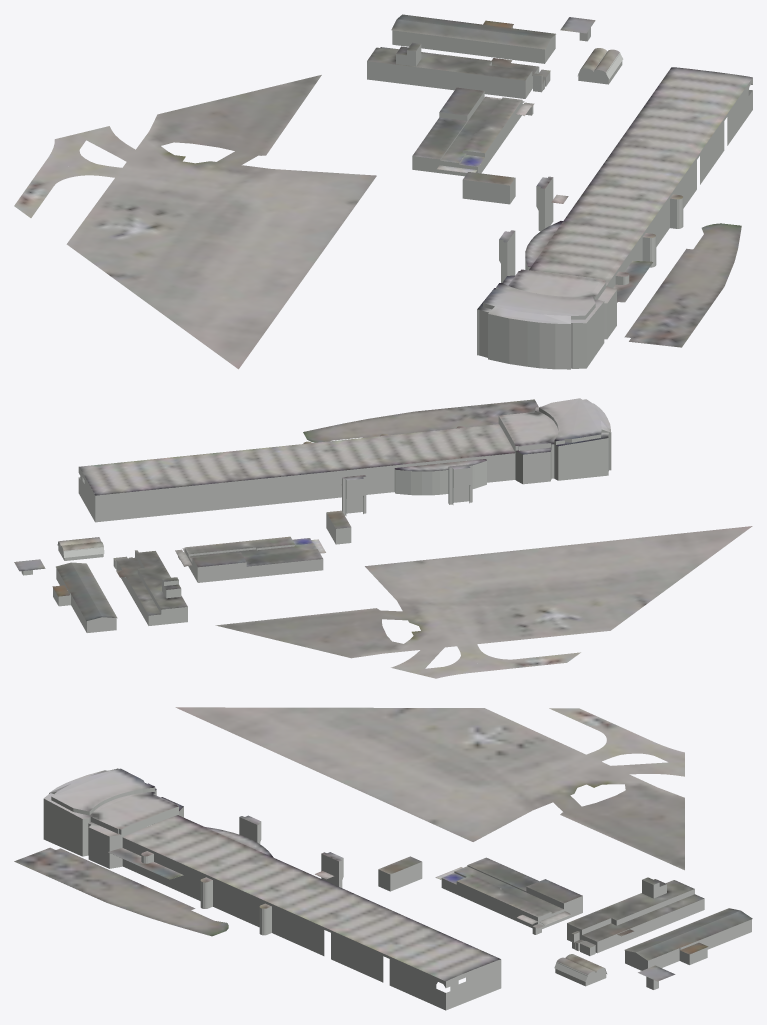
Rendered from LSGG_0_-1.glb.
3 views of the same model, one above another, from view 1: azimuth 30°, elevation 25°; view 2: azimuth 150°, elevation 25°; view 3: azimuth 270°, elevation 25° (orthographic). The views are drawn at different scales.
Parts seen in each view (by area): view 1: pavement_LSGG_pavement_4995_2242, building_21402e1a0712a7a2, building_f36d4e0afd093fa1, building_52facce85fec65dd, building_69130aa4924f32c3, building_08fd097477be71ec, building_127d4524f891cd3c, building_3647754495e3d42e, building_a9cdc9163424f115, building_f4d8ebf337e6cc00, building_54d526beeac6e02a, building_9764d06eb77990f2 (+1 smaller); view 2: pavement_LSGG_pavement_4995_2242, building_21402e1a0712a7a2, building_69130aa4924f32c3, building_f36d4e0afd093fa1, building_52facce85fec65dd, building_08fd097477be71ec, building_a9cdc9163424f115, building_f4d8ebf337e6cc00, building_3647754495e3d42e, building_127d4524f891cd3c, building_9764d06eb77990f2, building_54d526beeac6e02a; view 3: pavement_LSGG_pavement_4995_2242, building_21402e1a0712a7a2, building_69130aa4924f32c3, building_f36d4e0afd093fa1, building_52facce85fec65dd, building_08fd097477be71ec, building_f4d8ebf337e6cc00, building_a9cdc9163424f115, building_127d4524f891cd3c, building_3647754495e3d42e, building_54d526beeac6e02a, building_9764d06eb77990f2 (+1 smaller).
Part boxes in pixels (x1=…): pavement_LSGG_pavement_4995_2242: x1=14, y1=75, x2=376, y2=369; building_21402e1a0712a7a2: x1=499, y1=67, x2=752, y2=285; building_f36d4e0afd093fa1: x1=477, y1=223, x2=741, y2=347; building_52facce85fec65dd: x1=477, y1=275, x2=712, y2=369; building_69130aa4924f32c3: x1=499, y1=71, x2=752, y2=302; building_08fd097477be71ec: x1=412, y1=87, x2=521, y2=185; building_127d4524f891cd3c: x1=367, y1=44, x2=539, y2=115; building_3647754495e3d42e: x1=391, y1=14, x2=555, y2=49; building_a9cdc9163424f115: x1=412, y1=91, x2=522, y2=204; building_f4d8ebf337e6cc00: x1=367, y1=42, x2=538, y2=115; building_54d526beeac6e02a: x1=392, y1=26, x2=555, y2=63; building_9764d06eb77990f2: x1=492, y1=17, x2=623, y2=84; pavement_LSGG_pavement_4995_2242: x1=215, y1=526, x2=752, y2=678; building_21402e1a0712a7a2: x1=79, y1=424, x2=514, y2=495; building_69130aa4924f32c3: x1=78, y1=443, x2=515, y2=522; building_f36d4e0afd093fa1: x1=303, y1=398, x2=611, y2=454; building_52facce85fec65dd: x1=332, y1=408, x2=611, y2=484; building_08fd097477be71ec: x1=185, y1=510, x2=350, y2=567; building_a9cdc9163424f115: x1=184, y1=513, x2=351, y2=582; building_f4d8ebf337e6cc00: x1=116, y1=548, x2=192, y2=615; building_3647754495e3d42e: x1=52, y1=562, x2=117, y2=621; building_127d4524f891cd3c: x1=116, y1=550, x2=189, y2=625; building_9764d06eb77990f2: x1=14, y1=537, x2=138, y2=577; building_54d526beeac6e02a: x1=53, y1=568, x2=116, y2=632; pavement_LSGG_pavement_4995_2242: x1=175, y1=707, x2=684, y2=870; building_21402e1a0712a7a2: x1=123, y1=815, x2=500, y2=981; building_69130aa4924f32c3: x1=122, y1=817, x2=501, y2=1010; building_f36d4e0afd093fa1: x1=14, y1=768, x2=228, y2=936; building_52facce85fec65dd: x1=14, y1=787, x2=228, y2=936; building_08fd097477be71ec: x1=378, y1=856, x2=582, y2=917; building_f4d8ebf337e6cc00: x1=517, y1=877, x2=704, y2=941; building_a9cdc9163424f115: x1=378, y1=862, x2=582, y2=928; building_127d4524f891cd3c: x1=526, y1=880, x2=704, y2=953; building_3647754495e3d42e: x1=624, y1=908, x2=752, y2=960; building_54d526beeac6e02a: x1=625, y1=919, x2=751, y2=970; building_9764d06eb77990f2: x1=554, y1=929, x2=675, y2=981.
Bounding box in the file's own units: 464 × 36.2 × 497.
Materials: 3 (2 with a texture image).
